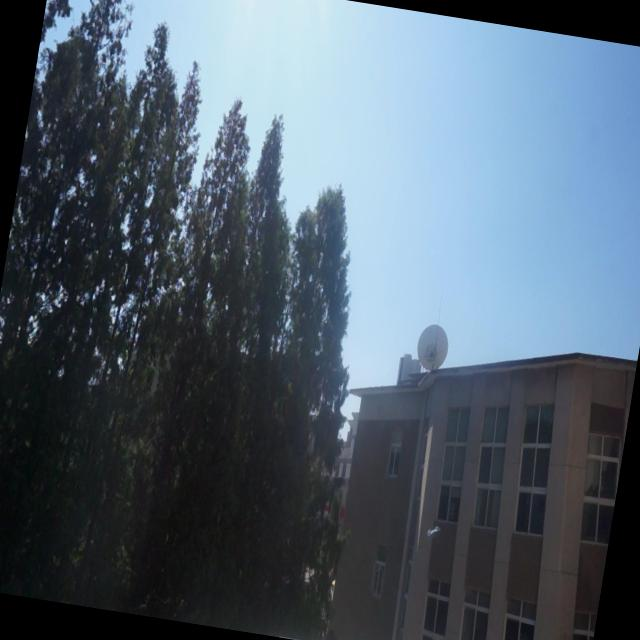drone: (422, 517, 446, 546)
